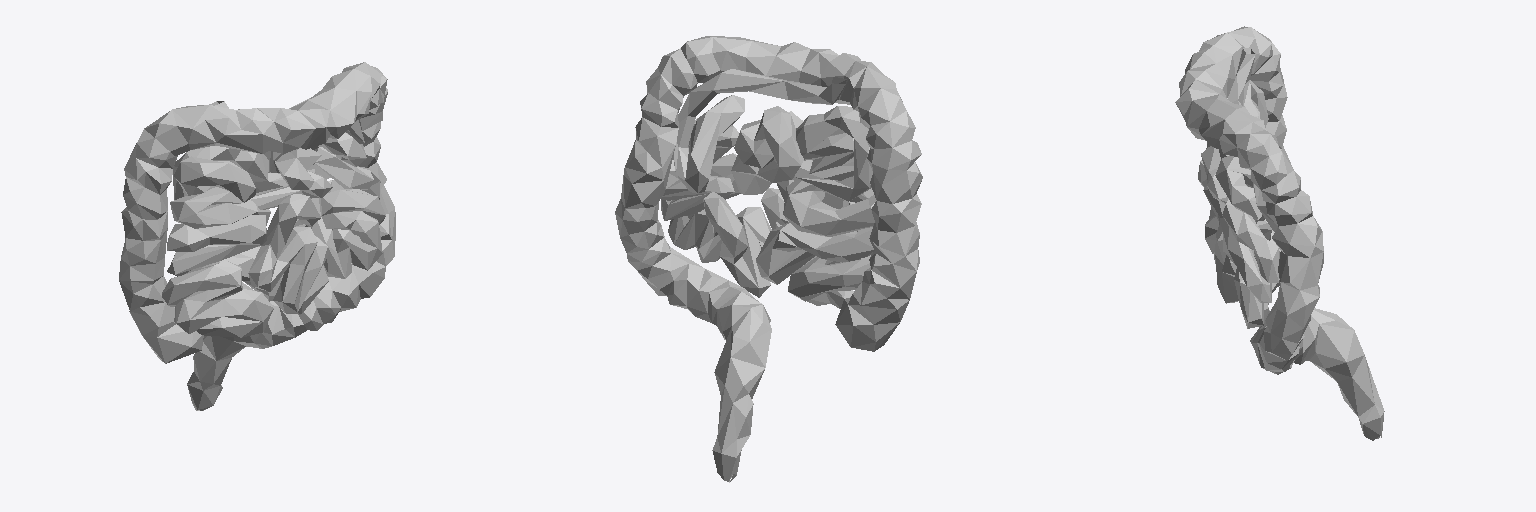
Rendered from organs_intestine_collision.obj.
The picture shows the model from 3 angles: view 1: azimuth 30°, elevation 25°; view 2: azimuth 150°, elevation 25°; view 3: azimuth 270°, elevation 25°; orthographic projection.
Visible parts, largest first — view 1: Intestine_polySurface1.013; view 2: Intestine_polySurface1.013; view 3: Intestine_polySurface1.013.
Boxes of the visible parts, box(x1,y1,x2,y2) form: Intestine_polySurface1.013: box(119, 62, 395, 410); Intestine_polySurface1.013: box(615, 36, 922, 482); Intestine_polySurface1.013: box(1175, 26, 1384, 440).
Size of the model in its own units: 21.21 by 26.65 by 13.43.